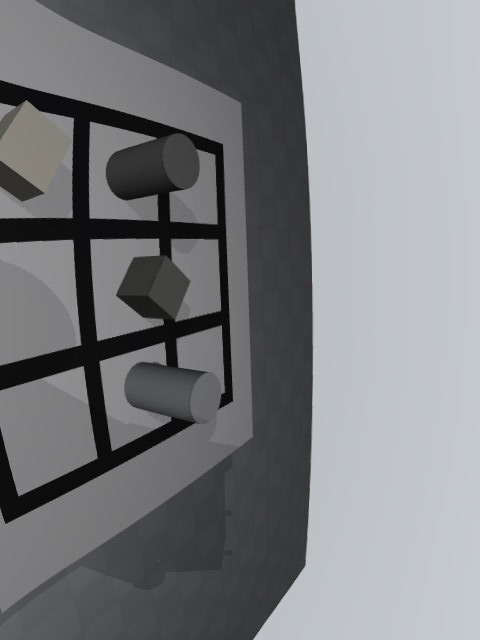can: (124, 362, 221, 424)
cube: (116, 255, 190, 320)
cylinder: (106, 133, 200, 200)
foam: (0, 100, 73, 201)
